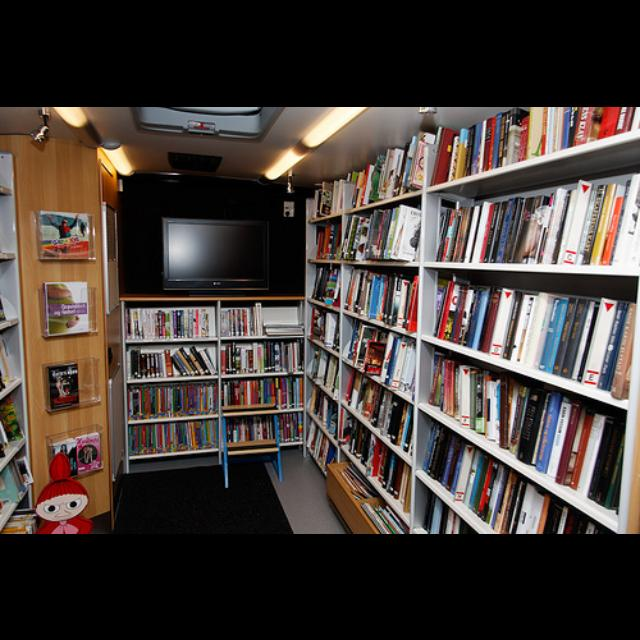Flat-Panel-TV: (160, 212, 279, 298)
